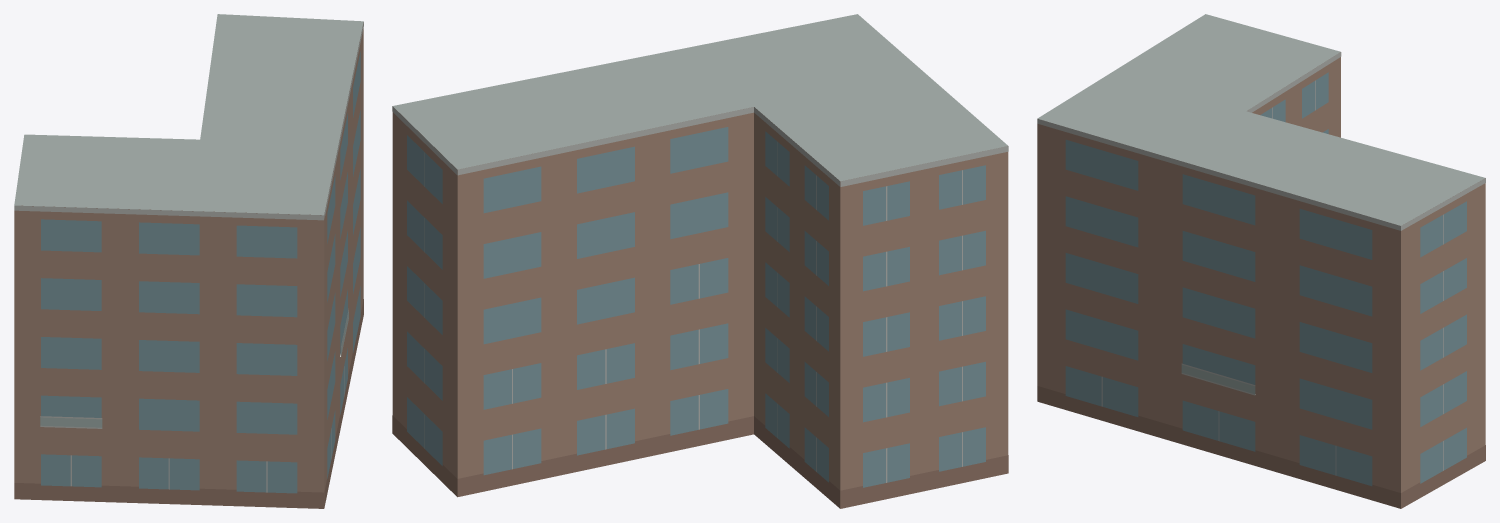
The model's file is survey-upis-32806758.glb.
3 views of the same model, side by side, from view 1: azimuth 30°, elevation 25°; view 2: azimuth 150°, elevation 25°; view 3: azimuth 270°, elevation 25° (orthographic). The views are drawn at different scales.
Visible parts, largest first — view 1: survey-upis-32806758.tmp; view 2: survey-upis-32806758.tmp; view 3: survey-upis-32806758.tmp.
Boxes of the visible parts, x1,y1,x2,y2 form: survey-upis-32806758.tmp: (14,14,363,508); survey-upis-32806758.tmp: (392,14,1008,508); survey-upis-32806758.tmp: (1037,14,1485,508).
Bounding box in the file's own units: 22.34 × 13.9 × 19.98.
